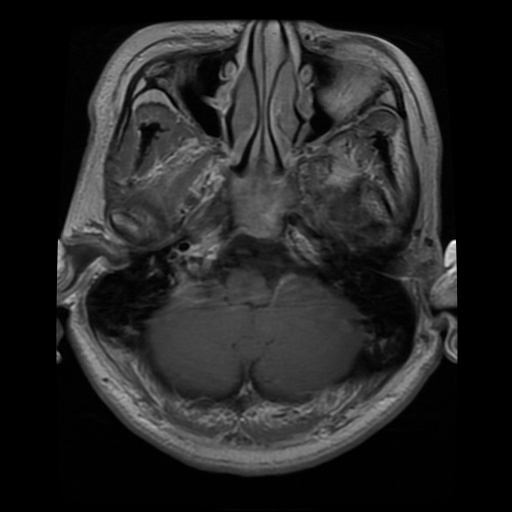pituitary: (233, 173, 298, 235)
